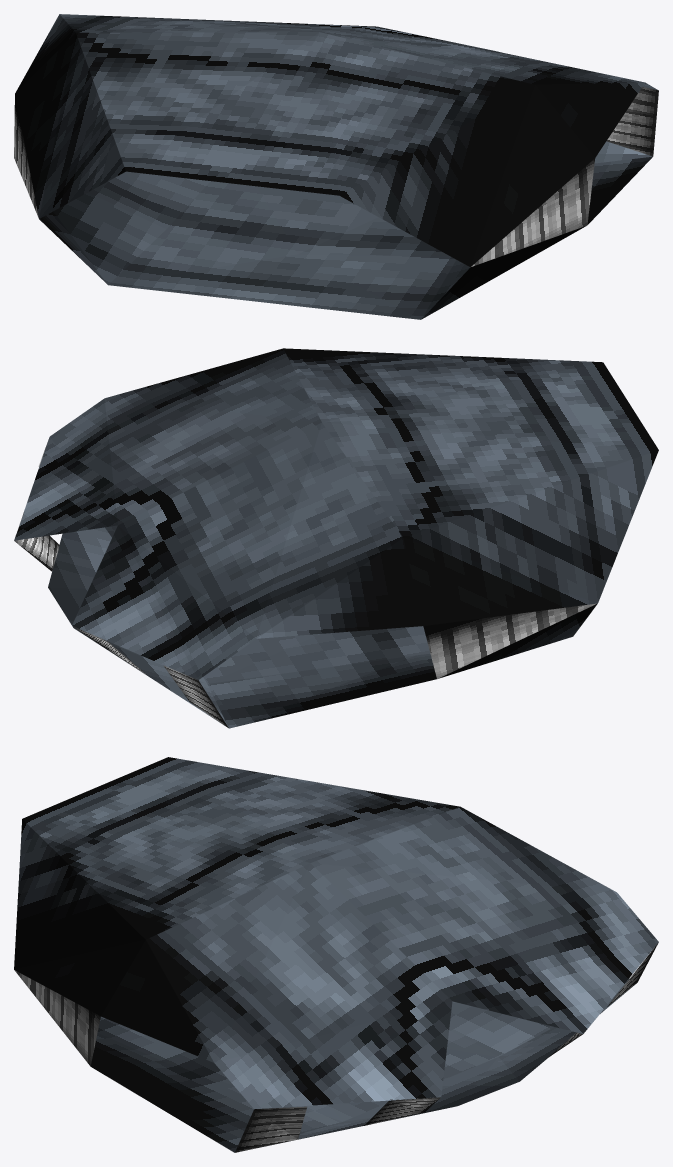
Rendered from primary_079.glb.
3 renders of one model, top to bottom at view 1: azimuth 30°, elevation 25°; view 2: azimuth 150°, elevation 25°; view 3: azimuth 270°, elevation 25°, orthographic. The views are drawn at different scales.
Visible parts, largest first — view 1: Object; view 2: Object; view 3: Object.
Boxes of the visible parts, x1=… form: Object: x1=14, y1=14, x2=658, y2=319; Object: x1=14, y1=348, x2=658, y2=728; Object: x1=14, y1=757, x2=658, y2=1152.
Bounding box in the file's own units: 0.7498 × 0.2409 × 0.757.
Materials: 7 (7 with a texture image).
